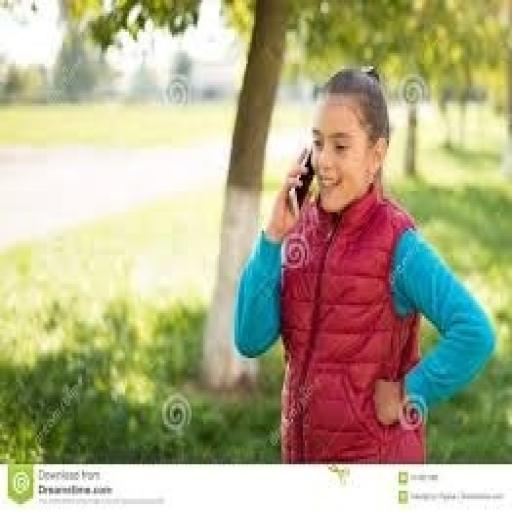texting: (230, 64, 496, 464)
